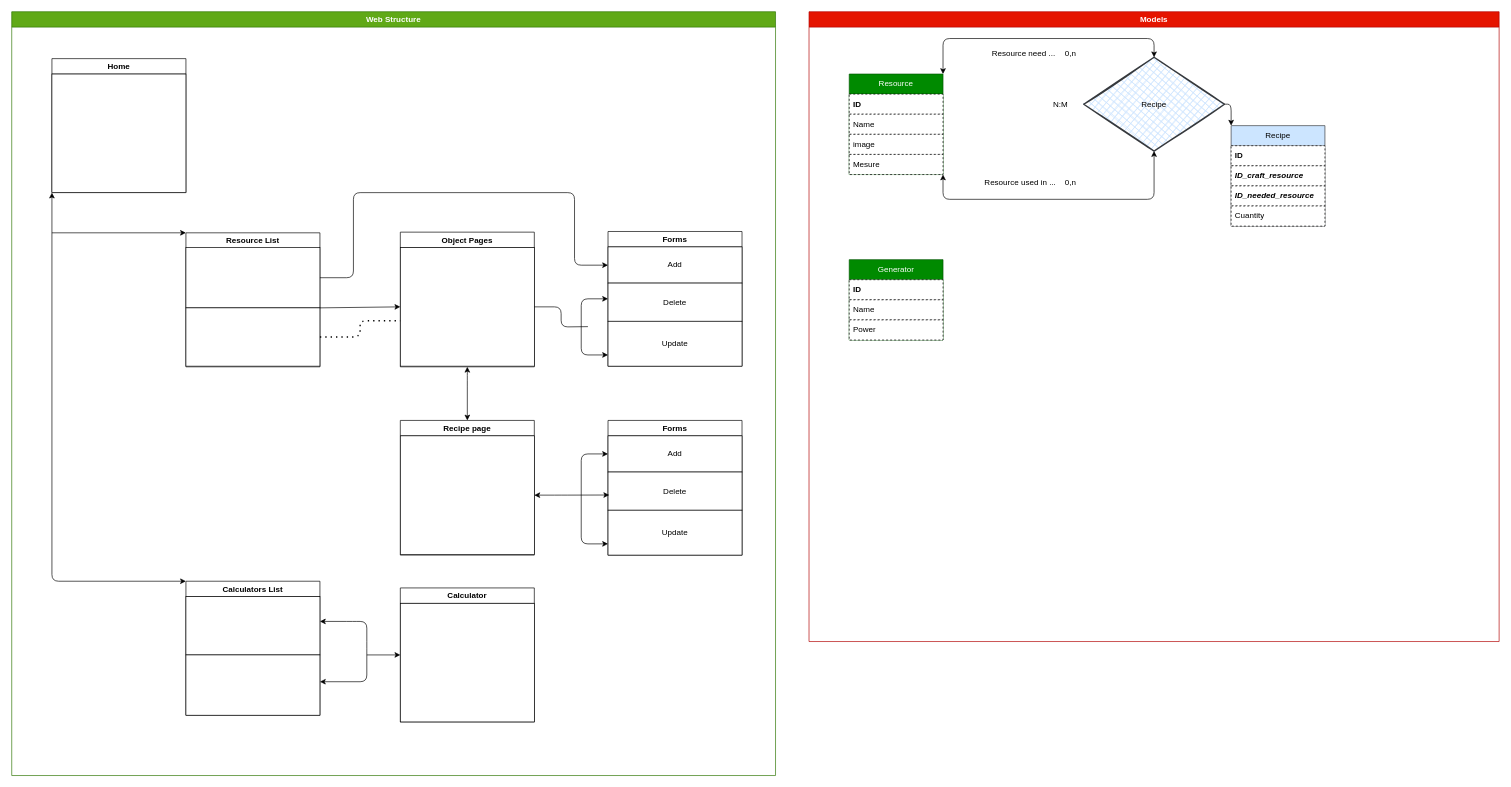
Some shapes in this 1511 by 787 pixel diagram are drawn without their labels. The shapes that lost their labels are listed below. From the top down, each one's centre as x and y in pixels, then its label:
At point (252, 277): "All".
At point (467, 306): "Details".
At point (252, 336): "Marked".
At point (467, 494): "Recipe information".
At point (252, 625): "Energy".
At point (467, 662): "Calculus page".
At point (252, 684): "Resources".
